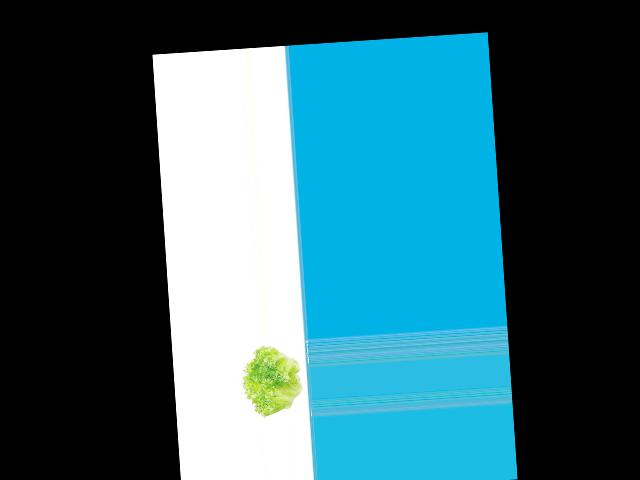lettuce: (238, 343, 308, 416)
